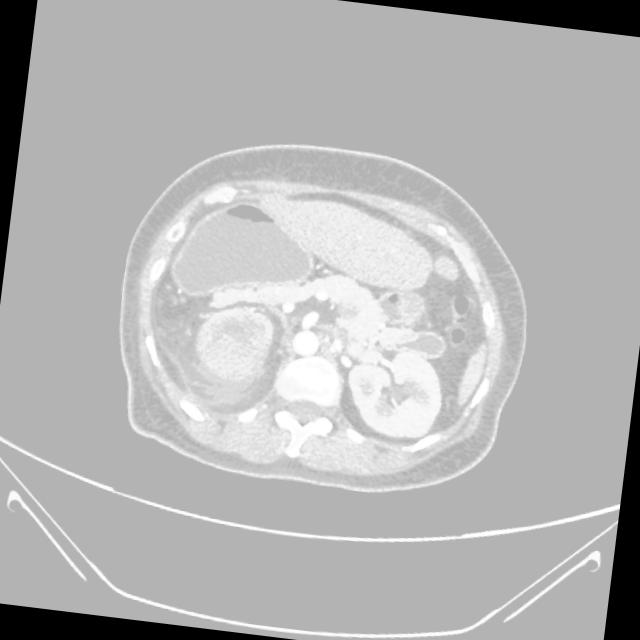TUMOR: (113, 180, 521, 403)
